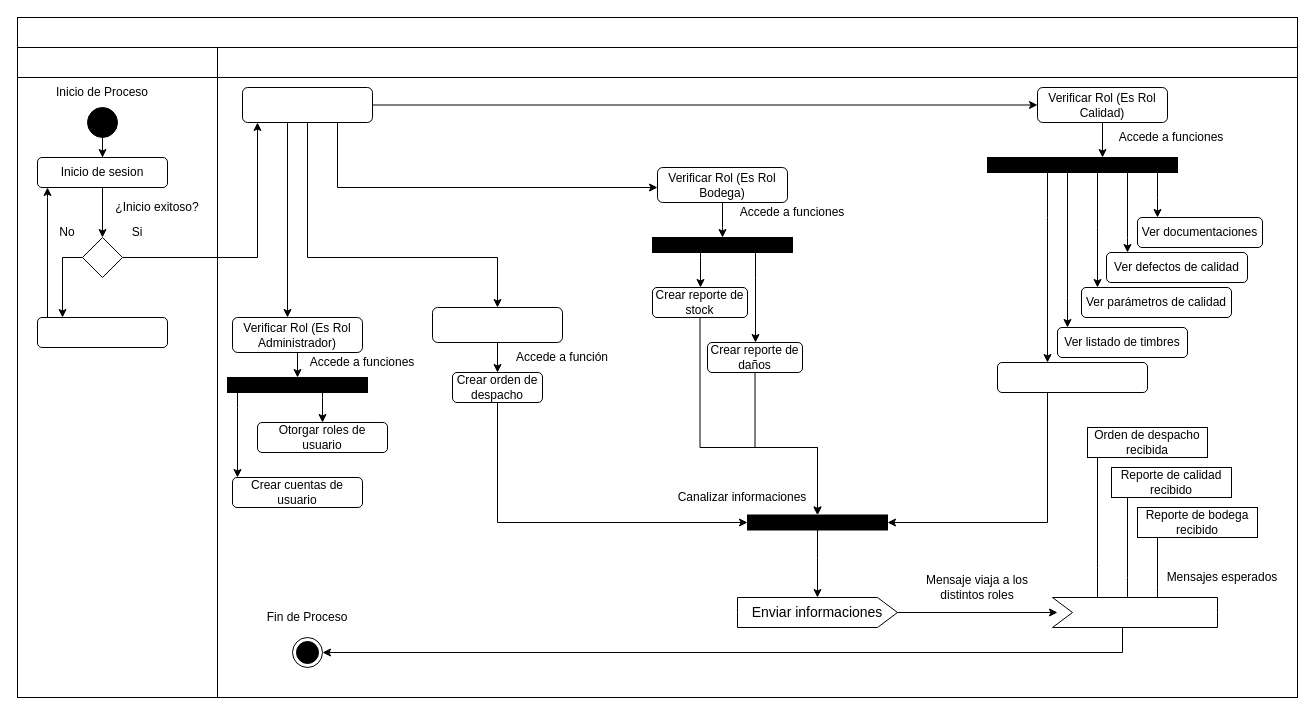
Image size: 1315x715. Some labels were removed from this diagram. The box of each missing label's shape, as (x1, y1, x2, y2) in pixels:
Crear reporte de calidad: (996, 362, 1148, 392)
Mensaje error: (36, 316, 168, 348)
Recibir informaciones: (1052, 596, 1218, 628)
Sistema: (216, 46, 1298, 78)
Sistema de Gallina Feliz: (16, 16, 1298, 48)
Usuario: (16, 46, 218, 78)
Verificar Rol (Es Rol Proveedor): (432, 306, 562, 342)
Verificar Rol en empresa: (242, 86, 372, 122)
